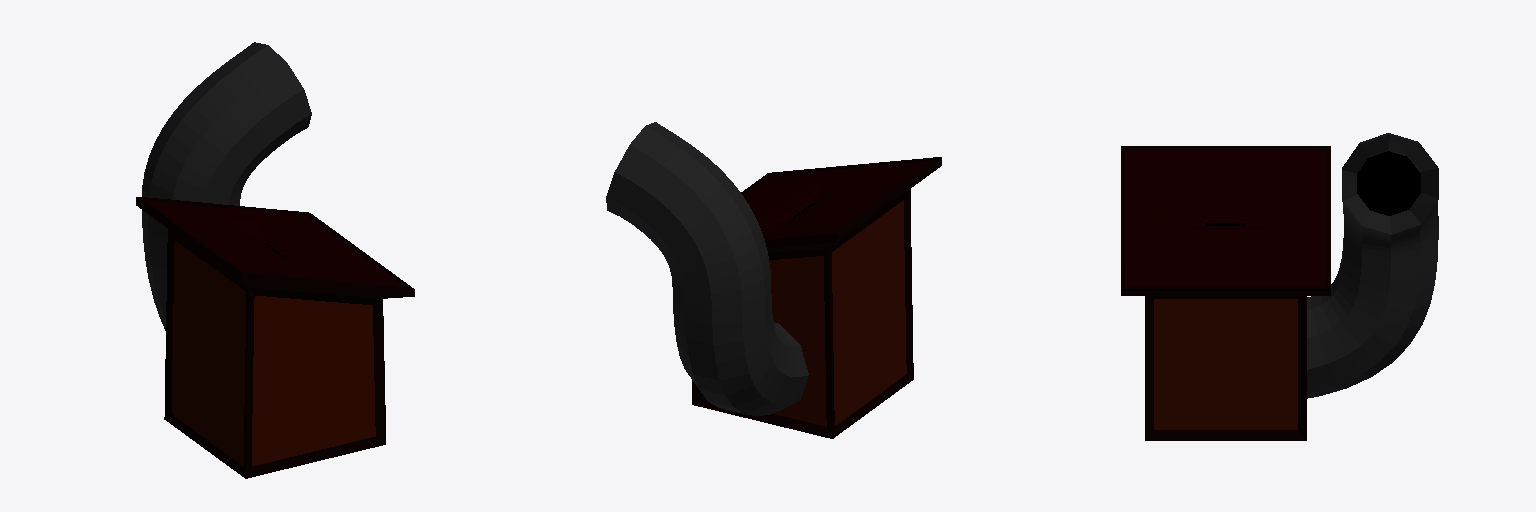
File: depositboxobj.obj
The picture shows the model from 3 angles: view 1: azimuth 30°, elevation 25°; view 2: azimuth 150°, elevation 25°; view 3: azimuth 270°, elevation 25°; orthographic projection.
Visible parts, largest first — view 1: Cube, BézierCurve; view 2: Cube, BézierCurve; view 3: Cube, BézierCurve.
Part boxes in pixels (x1,y1,x2,y2): Cube: (136,197,414,478); BézierCurve: (142,42,311,330); Cube: (692,157,941,438); BézierCurve: (606,122,808,415); Cube: (1121,146,1330,440); BézierCurve: (1307,133,1438,398).
Size of the model in its own units: 2.33 by 3.64 by 3.4.